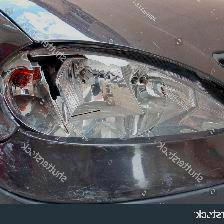head_lamp: (26, 47, 191, 137)
